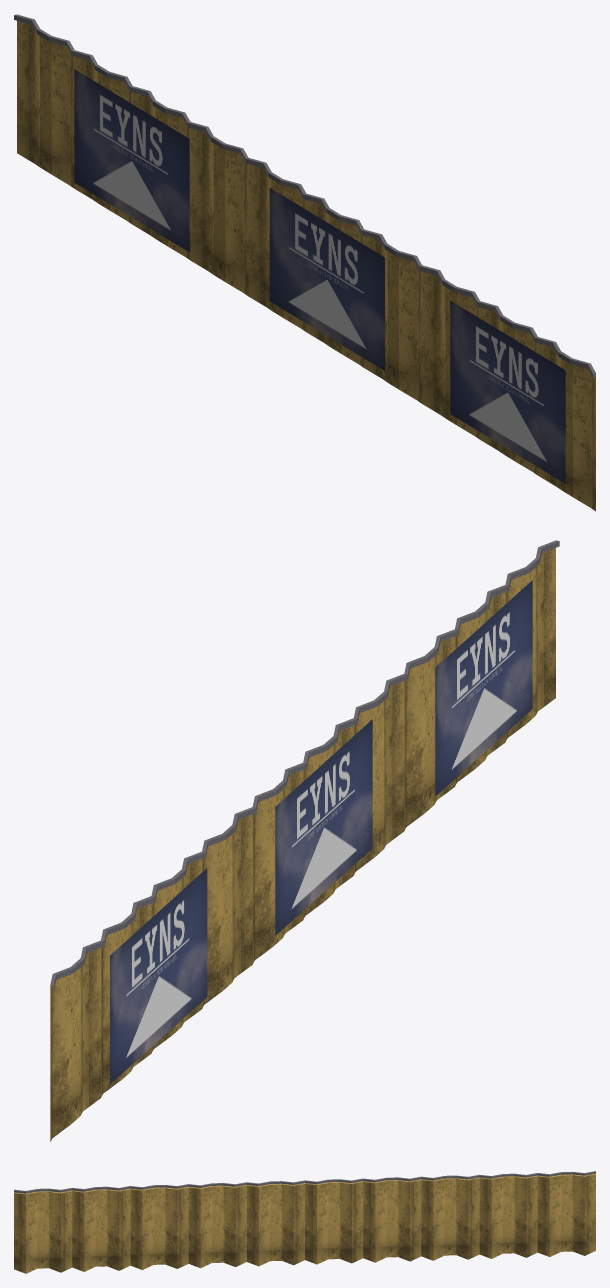
Rendered from rob_turn_fence1.fbx.
3 views of the same model, one above another, from view 1: azimuth 30°, elevation 25°; view 2: azimuth 150°, elevation 25°; view 3: azimuth 270°, elevation 25° (orthographic). The views are drawn at different scales.
Parts seen in each view (by area): view 1: Plane.002; view 2: Plane.002; view 3: Plane.002.
Boxes of the visible parts, bbox=[...] form: Plane.002: bbox=[14, 14, 595, 511]; Plane.002: bbox=[50, 540, 559, 1141]; Plane.002: bbox=[14, 1171, 595, 1273].
Bounding box in the file's own units: 170 × 311 × 1995.
5 materials, 5 textured.
